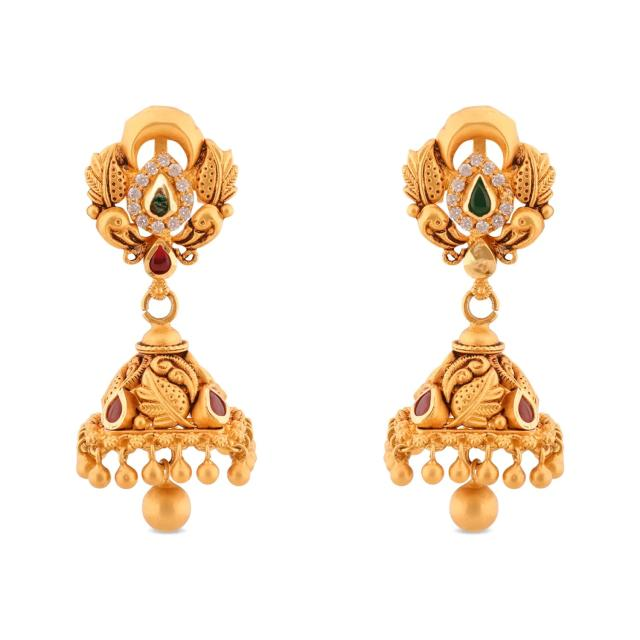missing gem: (469, 246, 492, 276), (150, 181, 170, 215)
